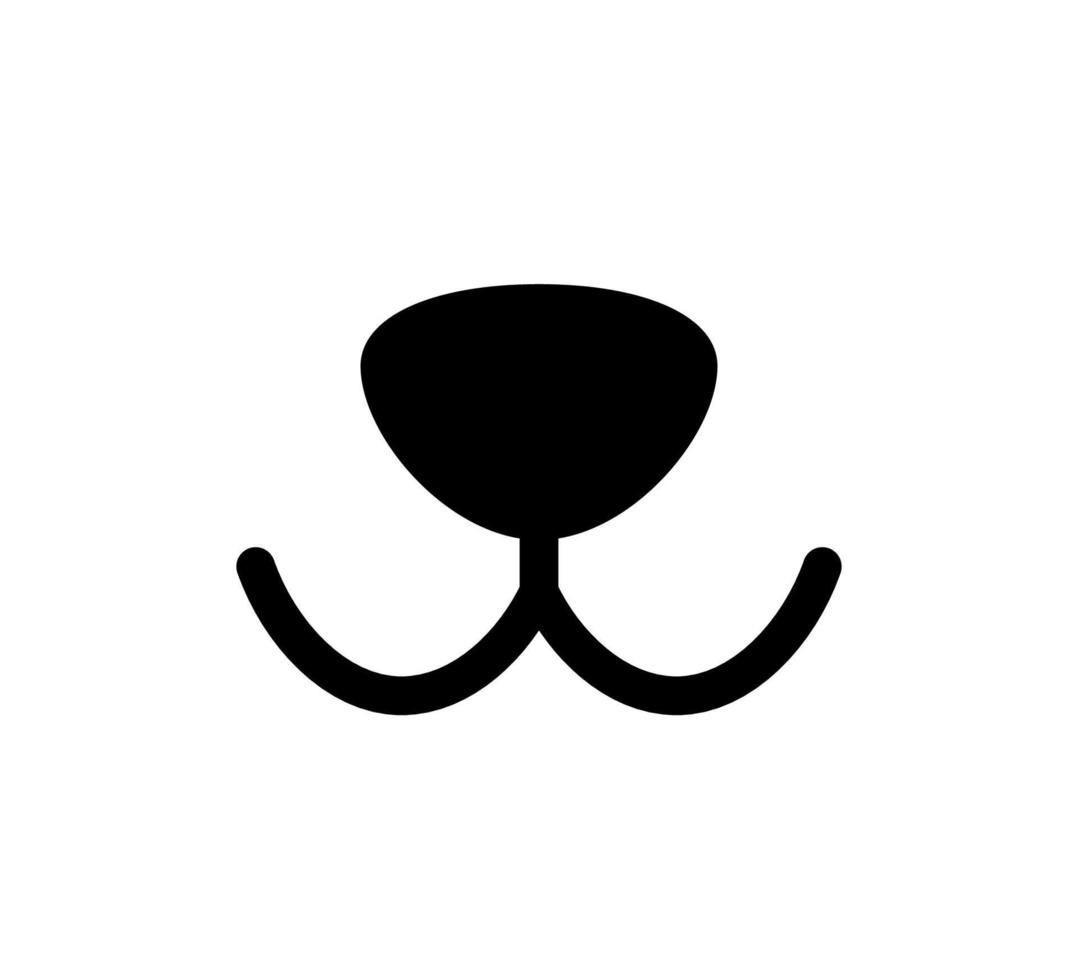non-dog: (234, 283, 843, 717)
